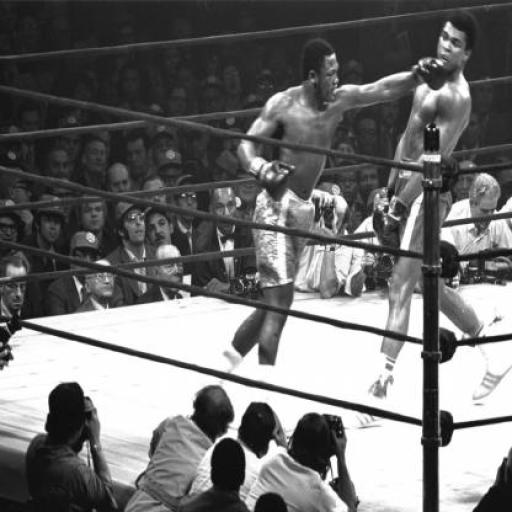Fighting: (224, 19, 491, 392)
